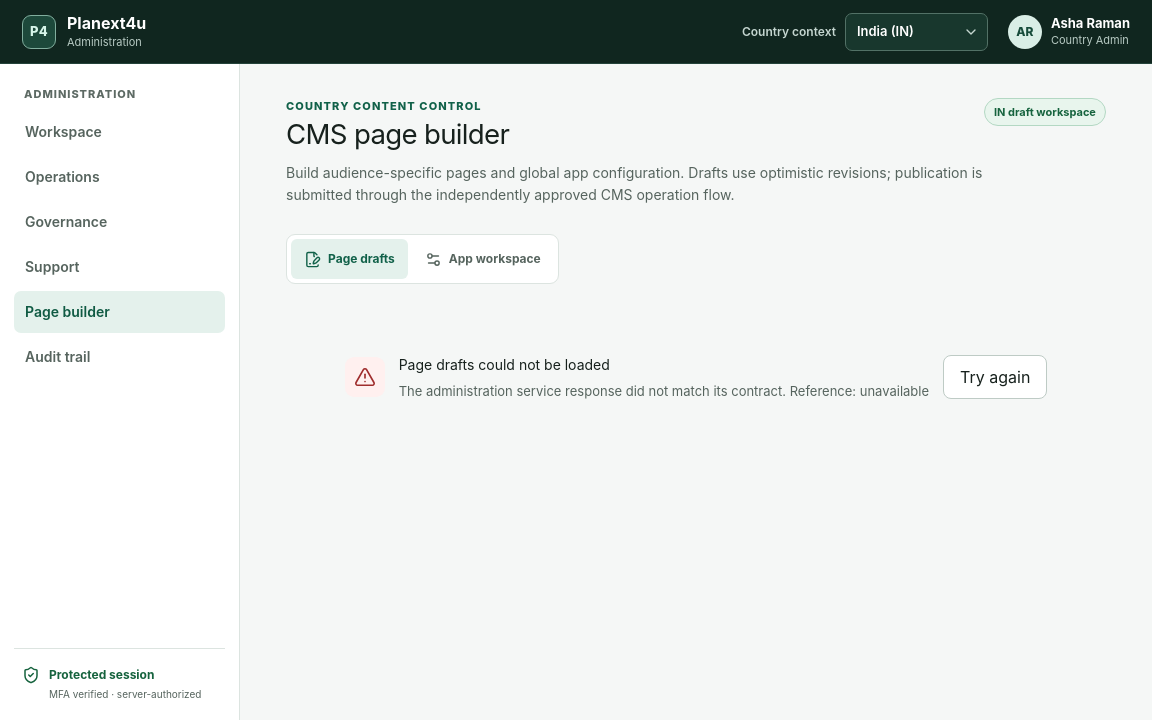
Test: administrator application › edits CMS workspace feature flags without bypassing draft publication
This screenshot has width=1152, height=720.
Expected: the heading "CMS page builder" is shown, [286,118,509,151]
Click the tab "App workspace" at (483, 259), box [412,239,554,279]
(page scrolled)
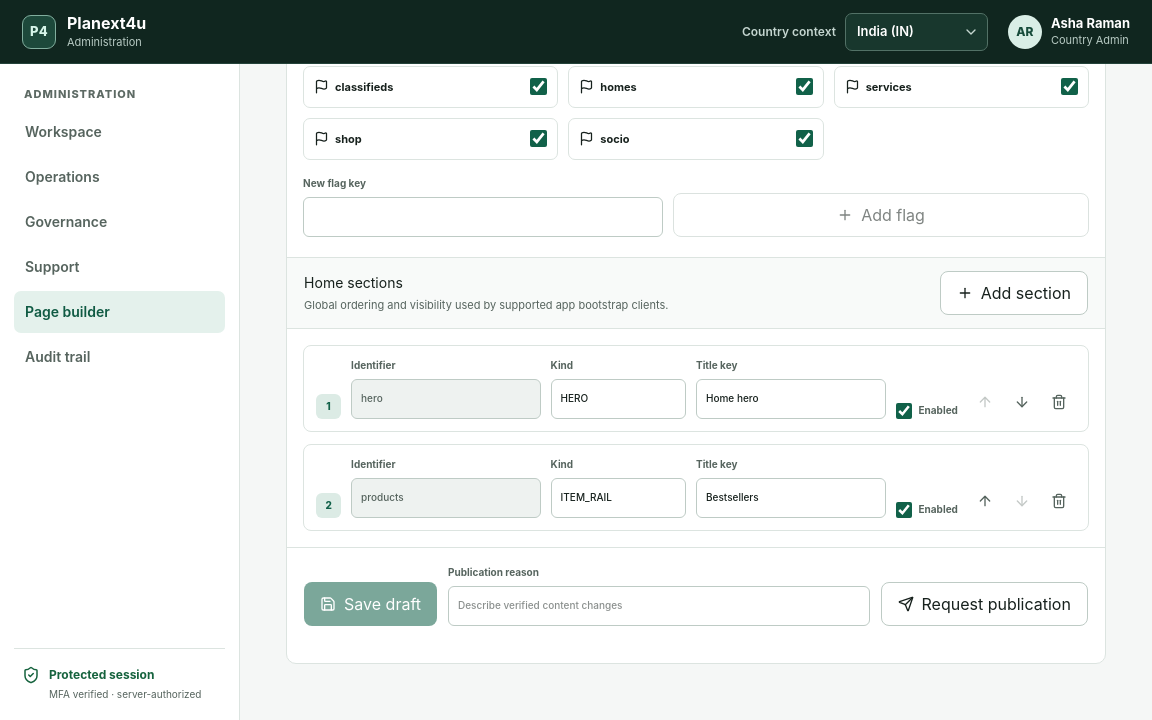
Now the text "services" is shown, box [845,79,912,95]
Now the button "Request publication" is enabled
Click the button "Request publication" at (984, 604), box [880,582,1088,626]
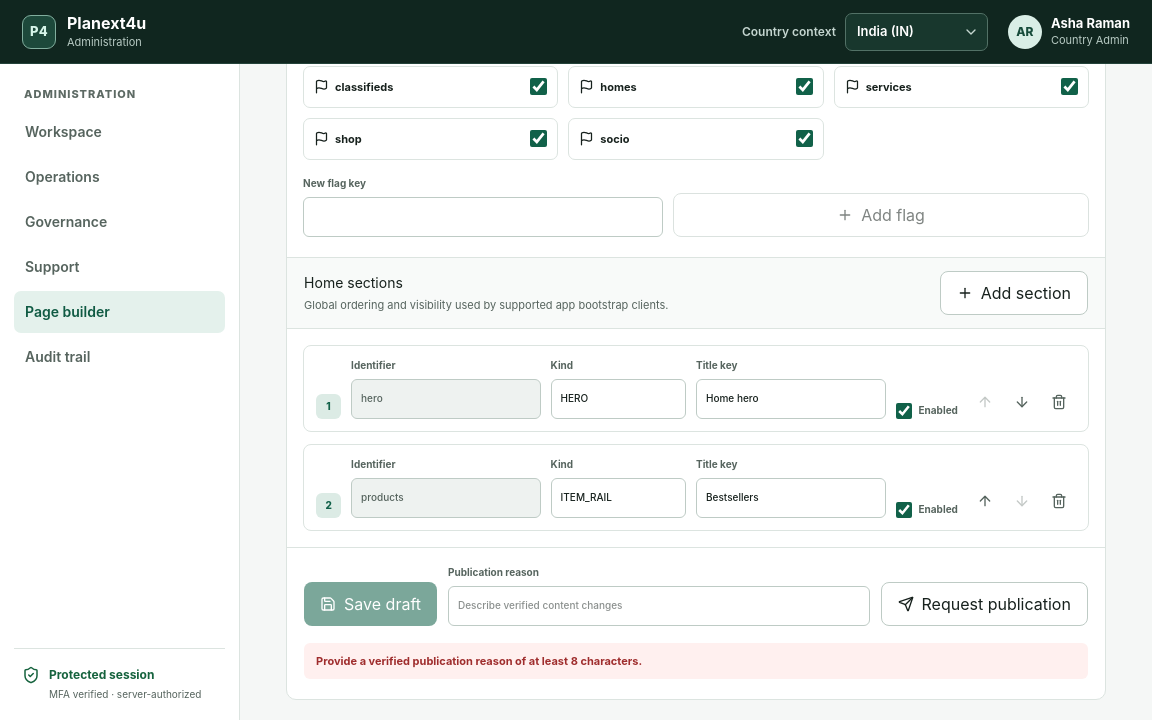
Now the text "Provide a verified publication reason of at least 8 characters." is shown, box [304,643,1088,679]
